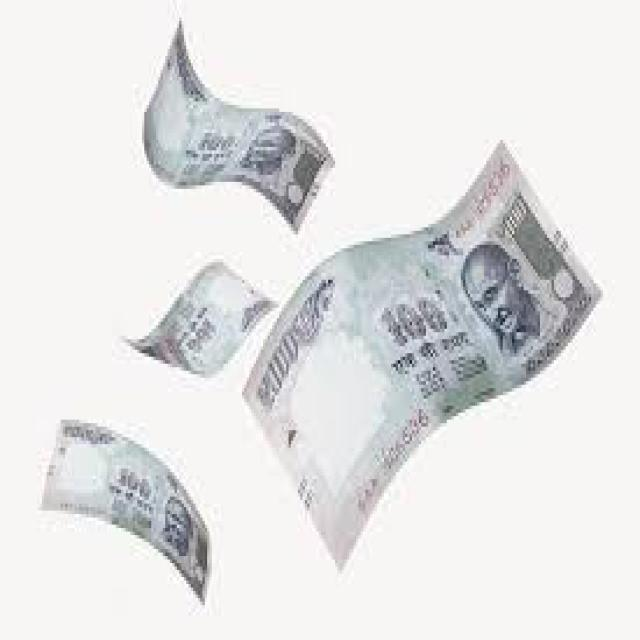money: (234, 125, 592, 555)
